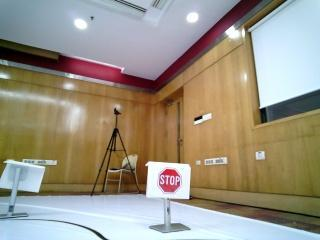stop: (154, 166, 187, 193)
